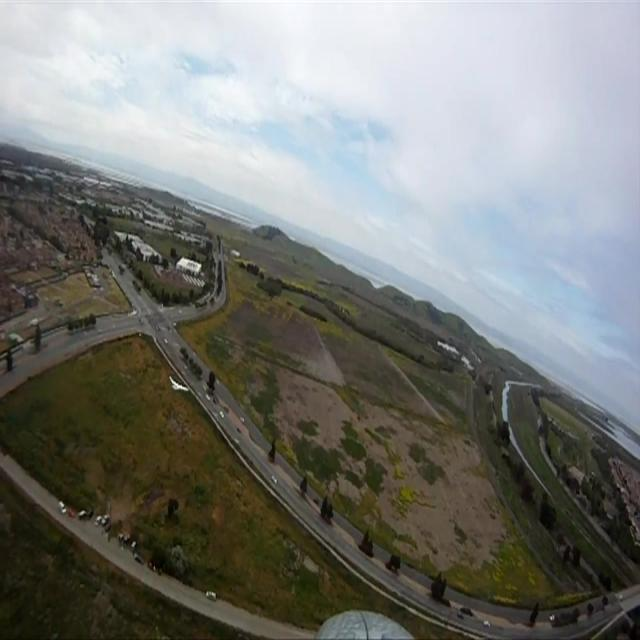iha: (168, 374, 190, 394)
